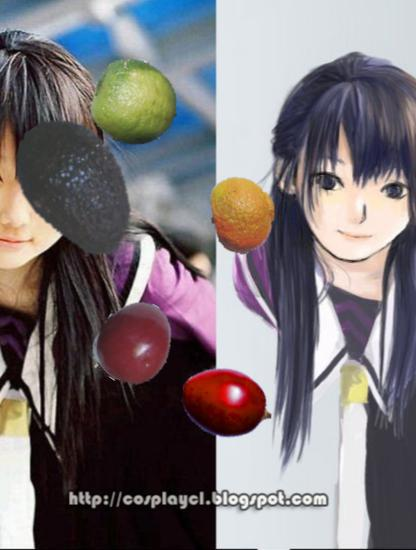Avocado: (3, 114, 150, 261)
Cherry: (92, 300, 179, 387)
Limes: (91, 60, 178, 147)
Mandarine: (204, 176, 282, 254)
Tamarillo: (181, 357, 274, 450)
